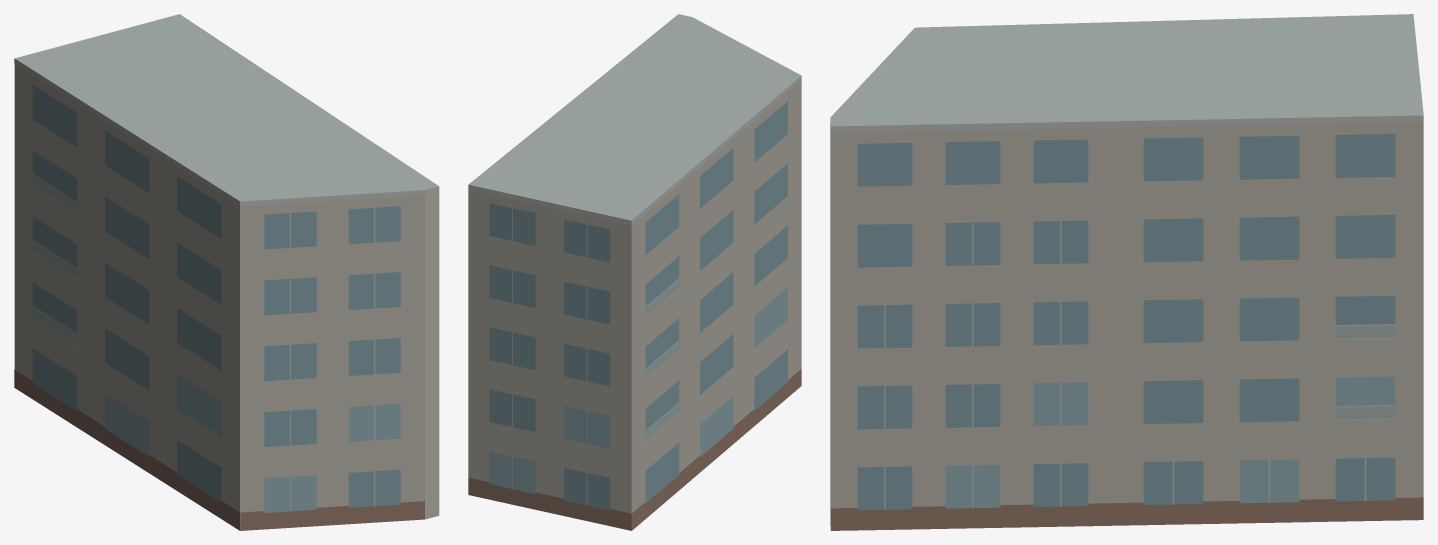
The model's file is survey-upis-32780167.glb.
3 renders of one model, left to right at view 1: azimuth 30°, elevation 25°; view 2: azimuth 150°, elevation 25°; view 3: azimuth 270°, elevation 25°, orthographic. The views are drawn at different scales.
Visible parts, largest first — view 1: survey-upis-32780167.tmp; view 2: survey-upis-32780167.tmp; view 3: survey-upis-32780167.tmp.
Boxes of the visible parts, left/top/right/bottom form: survey-upis-32780167.tmp: left=14, top=14, right=439, bottom=530; survey-upis-32780167.tmp: left=468, top=14, right=801, bottom=530; survey-upis-32780167.tmp: left=830, top=14, right=1423, bottom=530.
Size of the model in its own units: 9.1 by 15.25 by 20.29.
